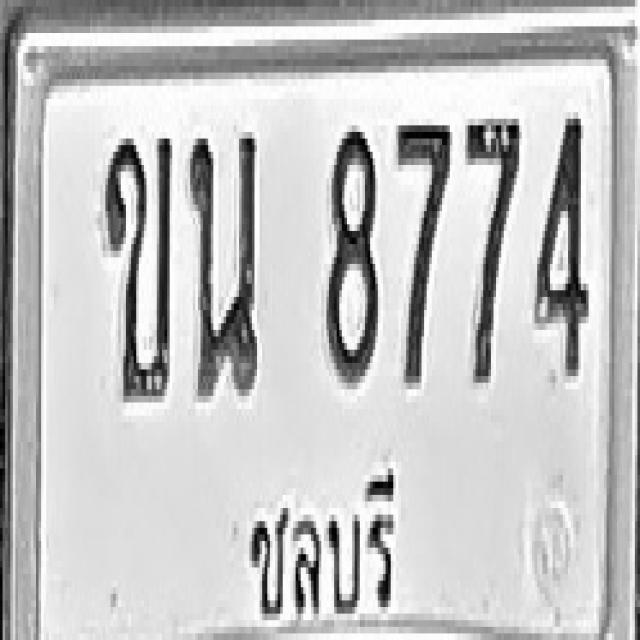11KhorKhai: (103, 129, 172, 399)
34NorNu: (188, 129, 257, 399)
4: (534, 112, 588, 376)
7: (465, 112, 519, 383), (396, 119, 450, 382)
8: (324, 125, 378, 383)
Chonburi: (236, 451, 402, 629)
